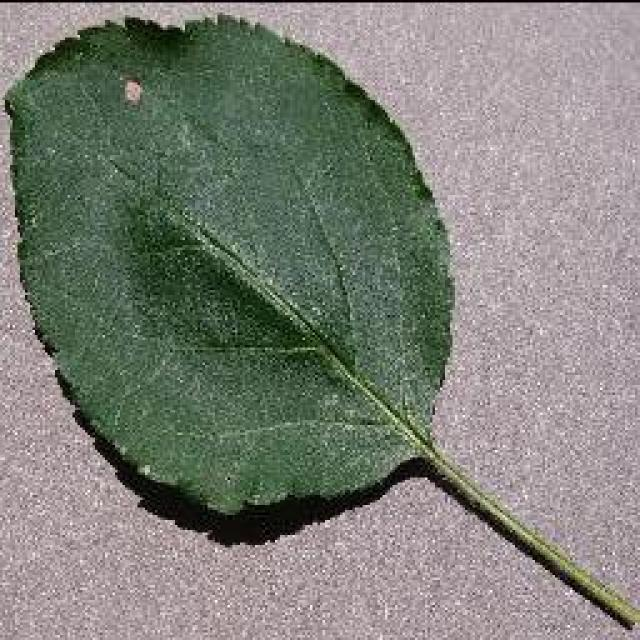Black_rot: (0, 10, 638, 635)
